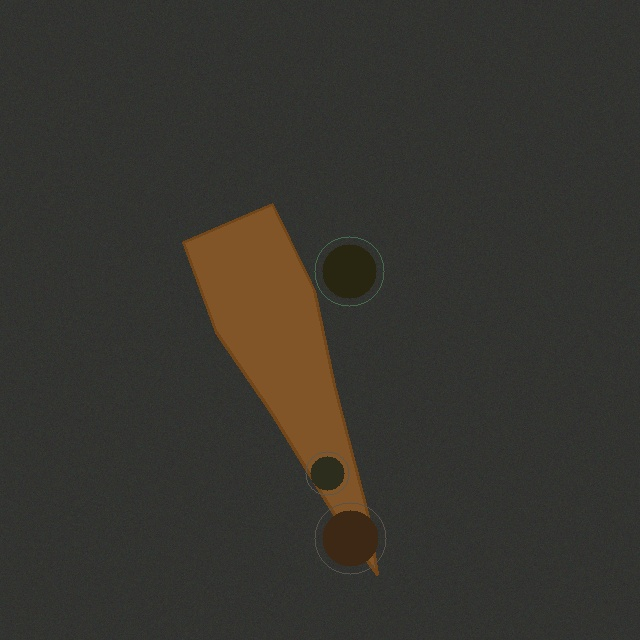Rotten_Carrot: (175, 196, 385, 582)
